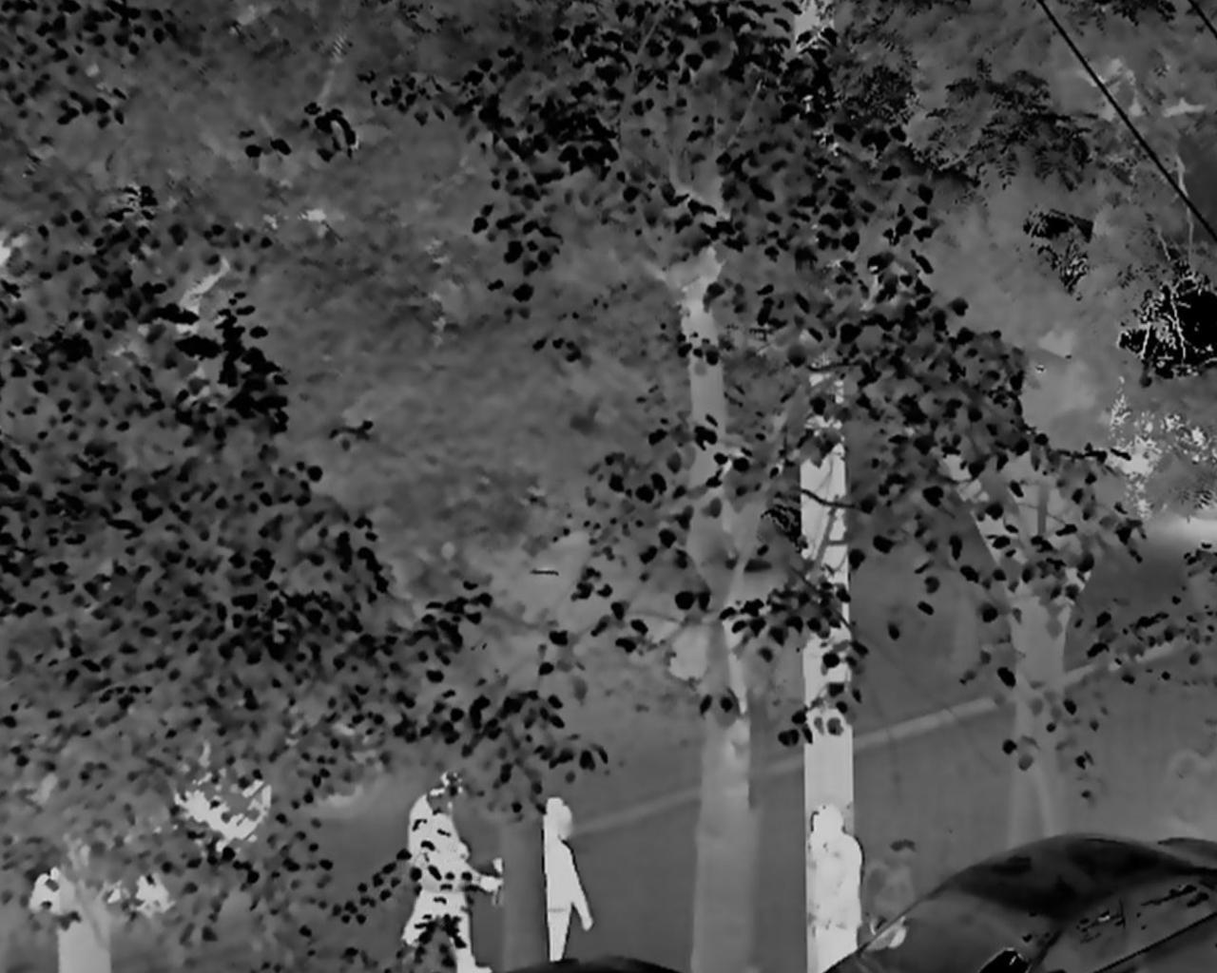person: (406, 776, 500, 973), (532, 795, 594, 973), (802, 806, 865, 973)
